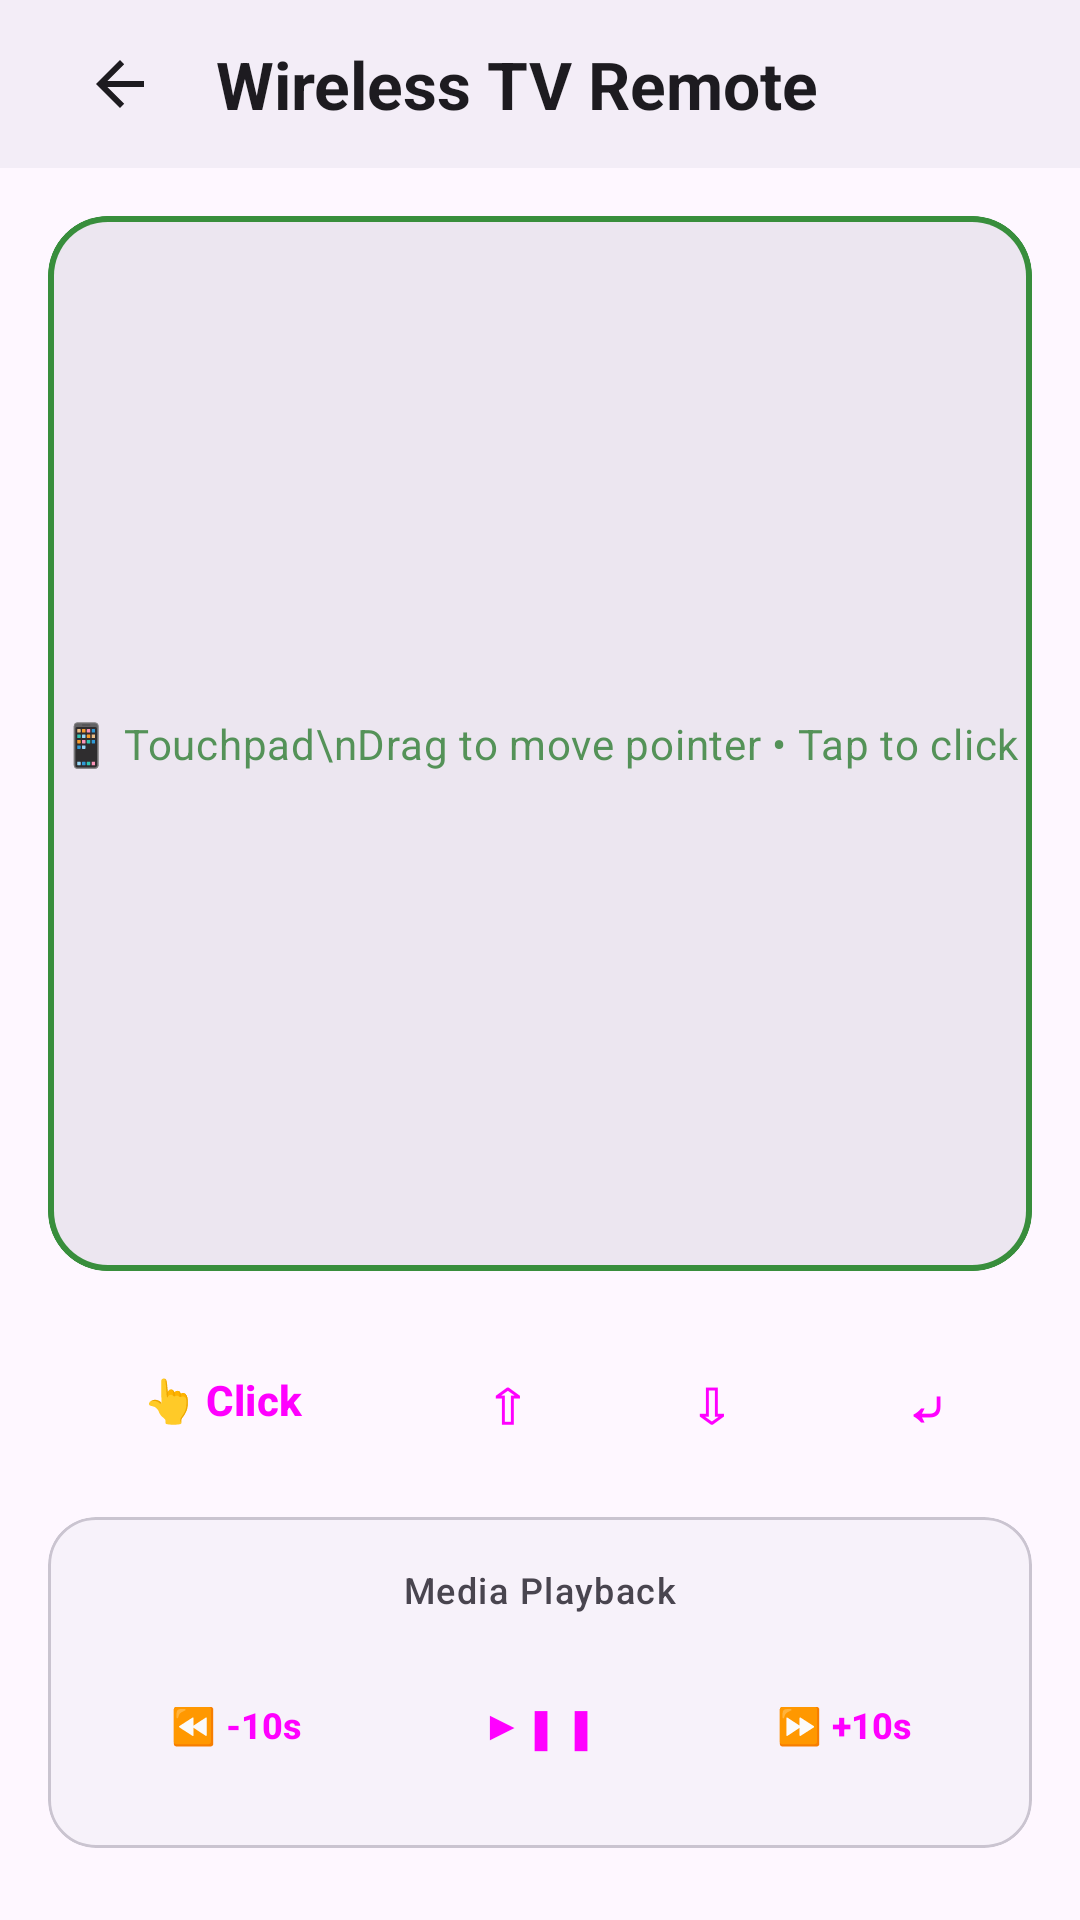

Icons on this 1080 × 1920 Android screen, each with the point to tap as (x=x, y=y):
Back to main console: (x=120, y=84)
